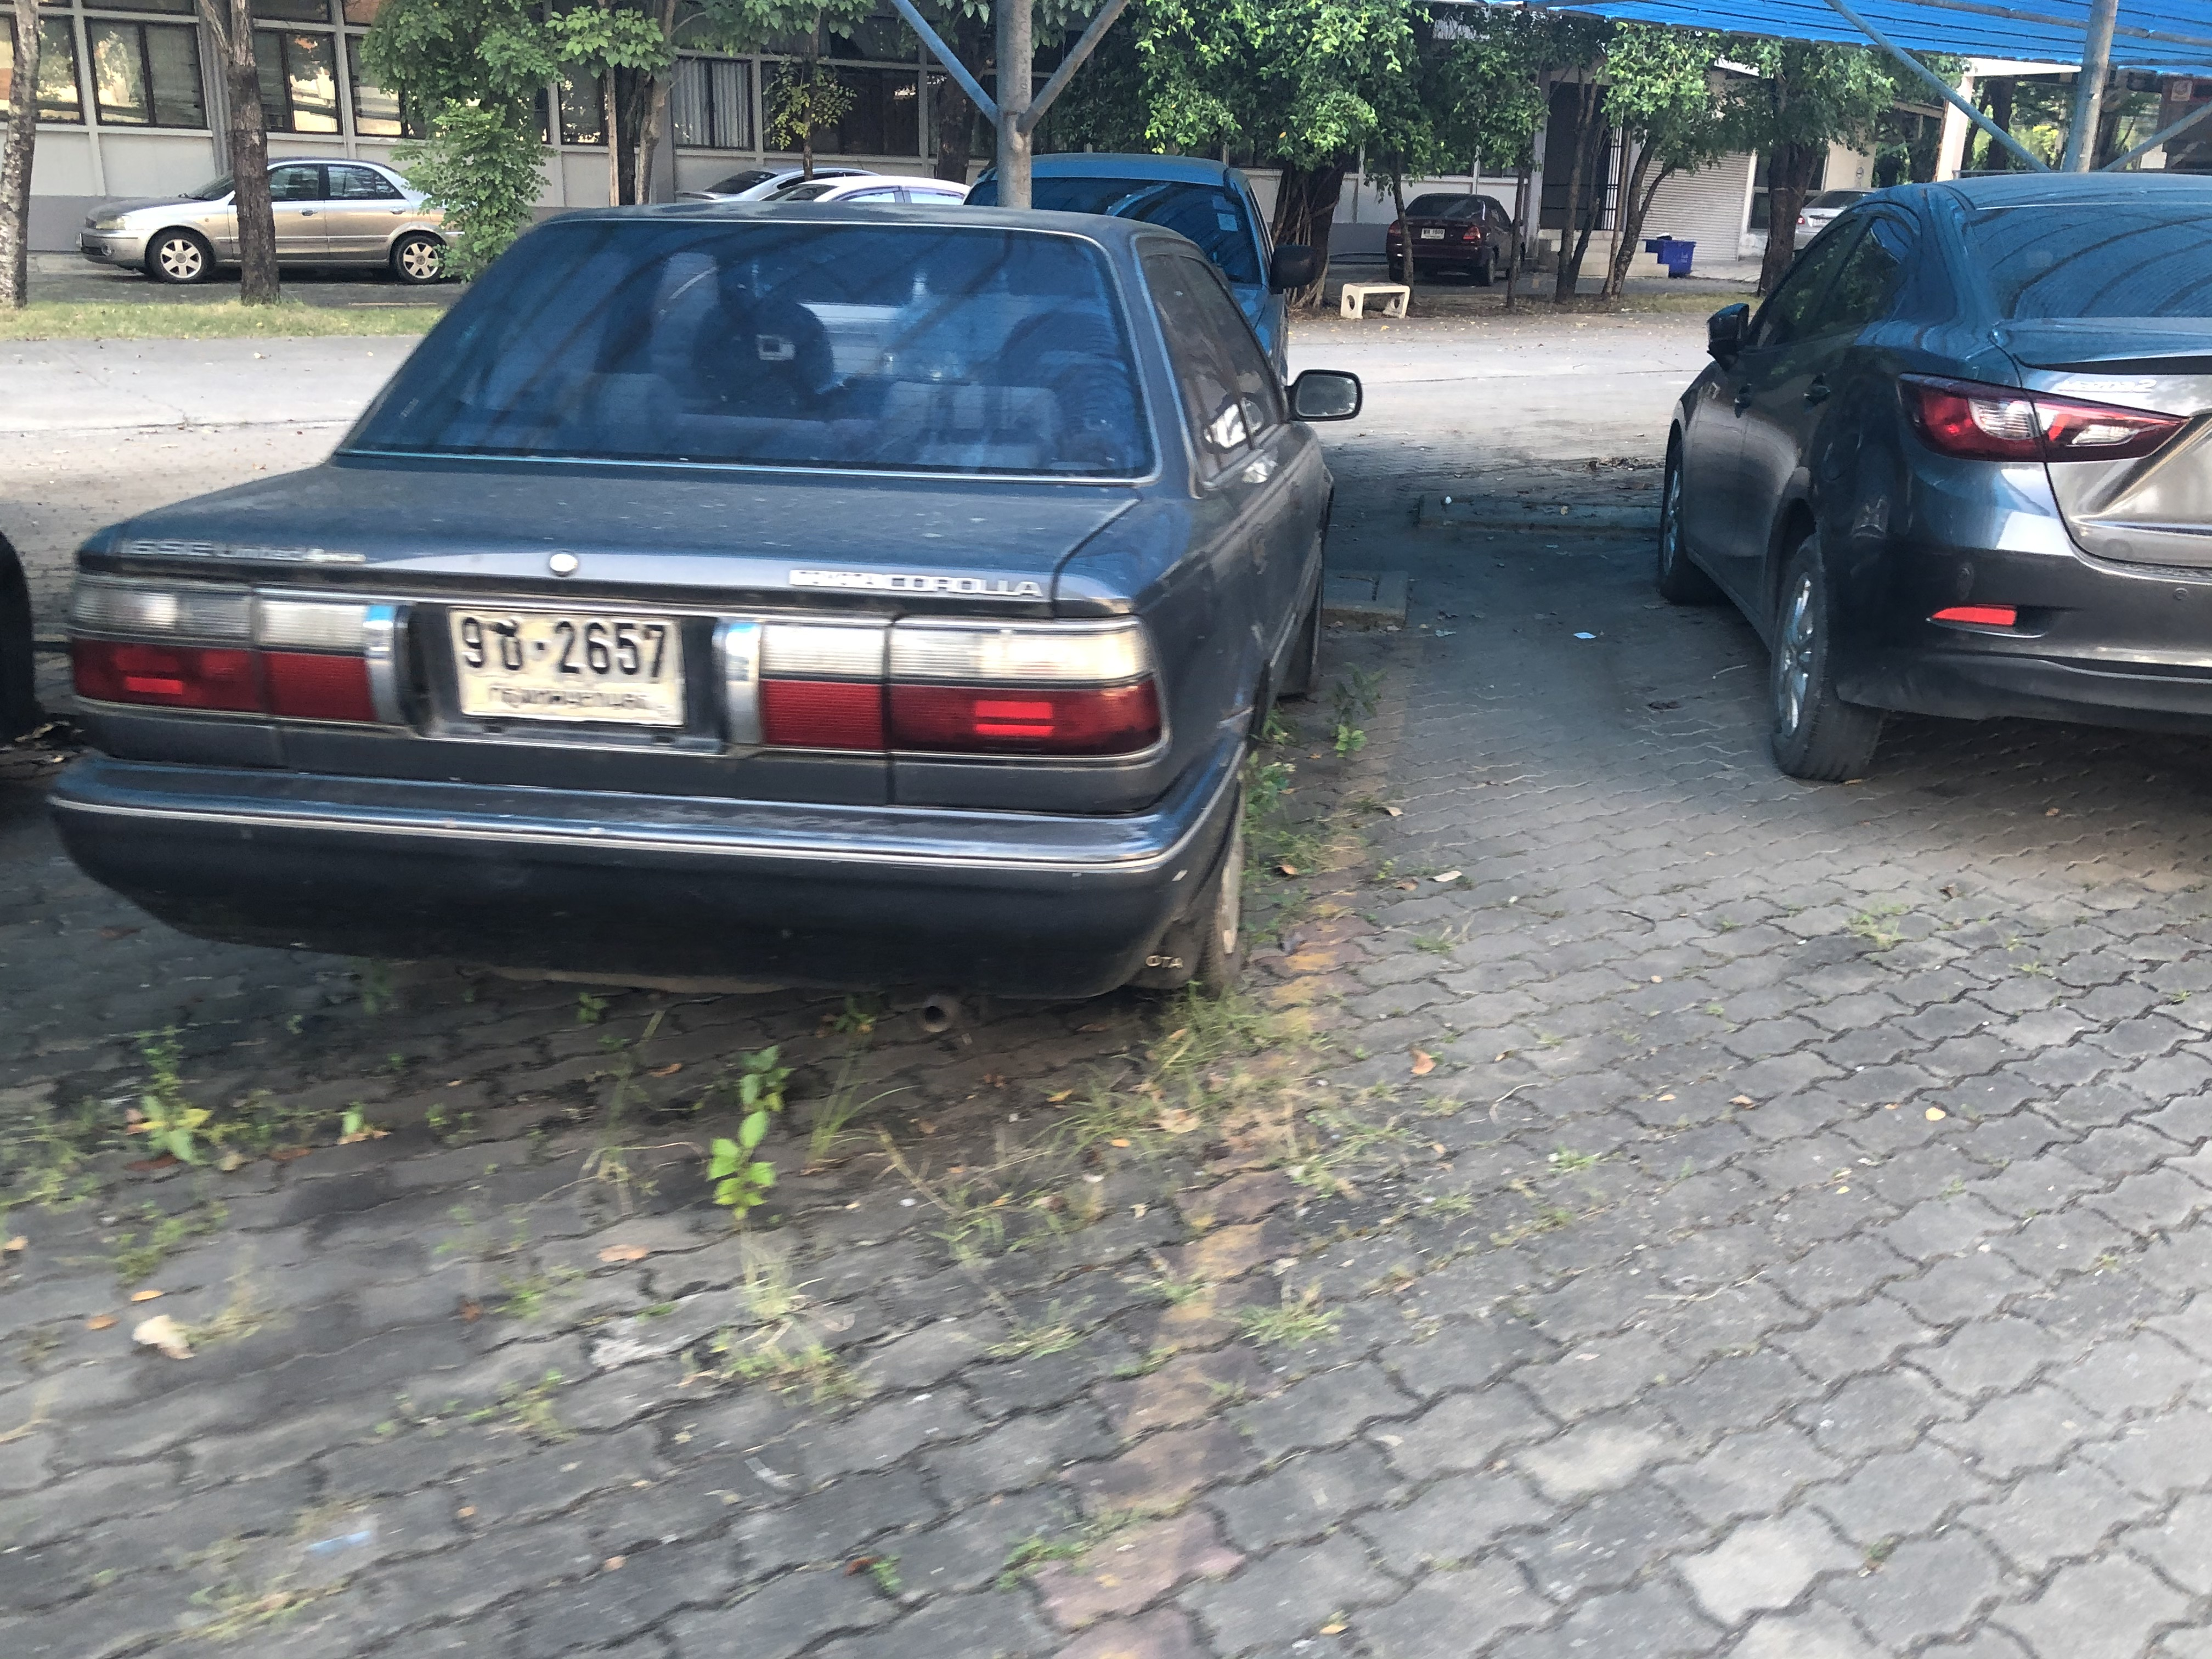in: (453, 610, 688, 730)
out: (444, 599, 697, 744)
